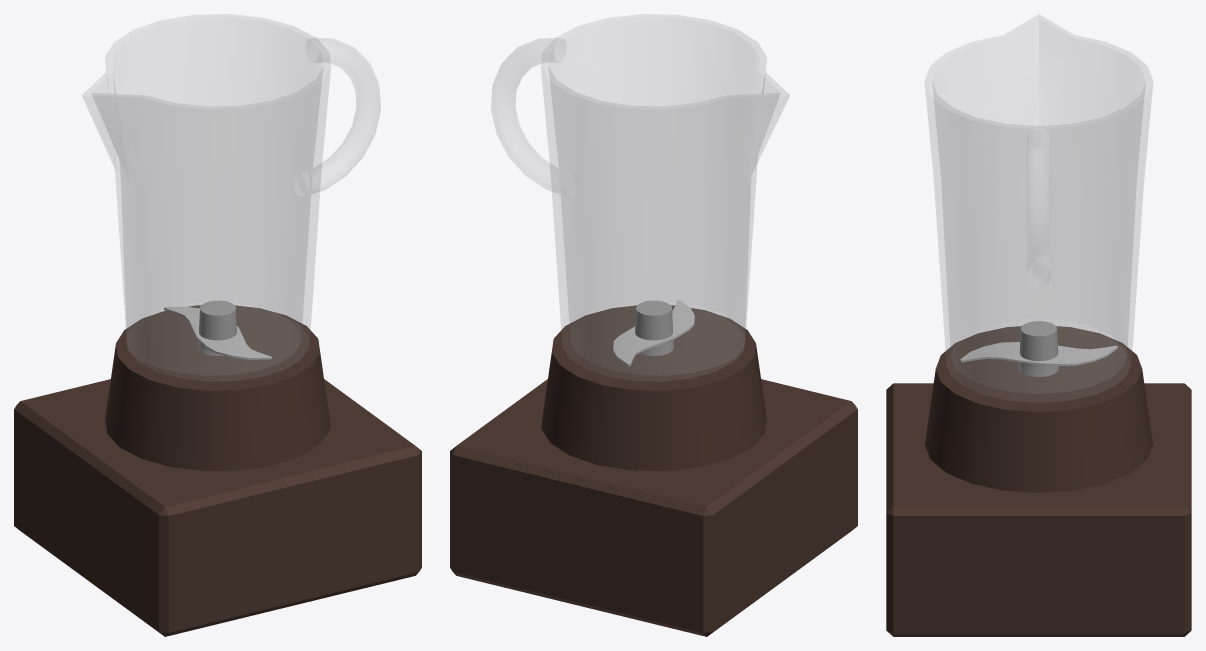
File: blender.fbx
The picture shows the model from 3 angles, left to right: view 1: azimuth 30°, elevation 25°; view 2: azimuth 150°, elevation 25°; view 3: azimuth 270°, elevation 25°; orthographic projection.
Parts seen in each view (by area): view 1: jug, squarebase, roundbase, handle, spinner, blade; view 2: jug, squarebase, roundbase, handle, spinner, blade; view 3: jug, squarebase, roundbase, handle, blade, spinner.
Boxes of the visible parts, x1,y1,x2,y2 form: jug: (82,14,330,381); squarebase: (14,379,421,636); roundbase: (105,305,330,471); handle: (312,38,380,193); spinner: (198,300,236,355); blade: (164,306,271,359); jug: (541,14,789,381); squarebase: (450,379,857,636); roundbase: (541,305,766,471); handle: (491,38,559,193); spinner: (635,300,673,355); blade: (613,300,694,366); jug: (925,14,1152,402); squarebase: (886,383,1191,636); roundbase: (925,326,1152,492); handle: (1026,142,1051,286); blade: (960,342,1117,365); spinner: (1019,321,1058,376).
Bounding box in the file's own units: 8.21 × 12.94 × 7.24.
